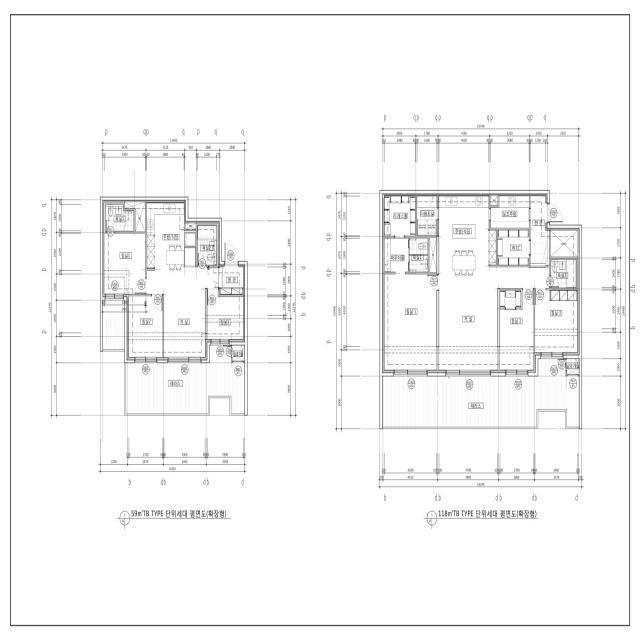space_bedroom: (384, 274, 436, 372), (500, 290, 534, 372), (535, 290, 577, 355), (103, 233, 145, 296), (127, 296, 163, 360), (207, 290, 245, 342)
space_dressroom: (384, 196, 415, 236)
space_front: (530, 196, 549, 265)
space_kitchen: (439, 196, 496, 276), (147, 201, 196, 271), (491, 196, 529, 228), (218, 265, 245, 295)
space_living_room: (439, 267, 550, 372), (147, 267, 218, 360)
space_other: (498, 230, 530, 265), (385, 238, 409, 272), (417, 196, 437, 236), (551, 230, 578, 257), (125, 201, 145, 232), (429, 238, 437, 273), (185, 222, 196, 229), (491, 196, 498, 205)
space_outdoor_room: (232, 345, 245, 361), (567, 359, 579, 374)
space_toilet: (105, 204, 134, 232), (197, 225, 217, 265), (551, 260, 576, 288), (409, 238, 428, 272)
